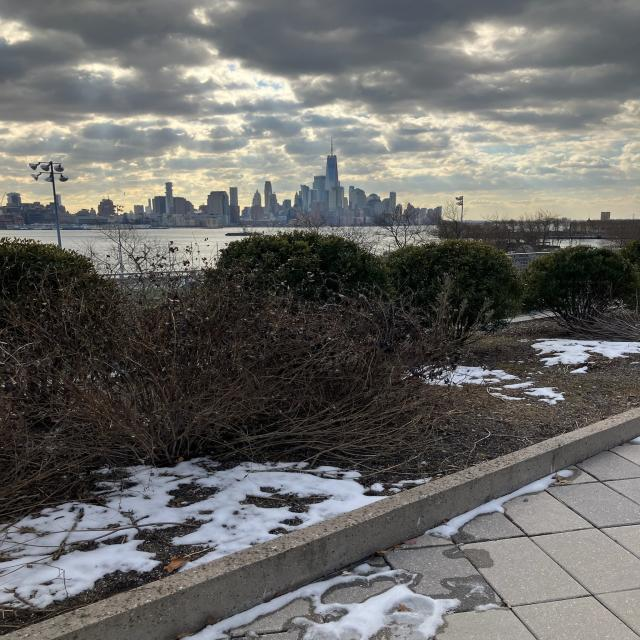WTC: (325, 135, 339, 188)
